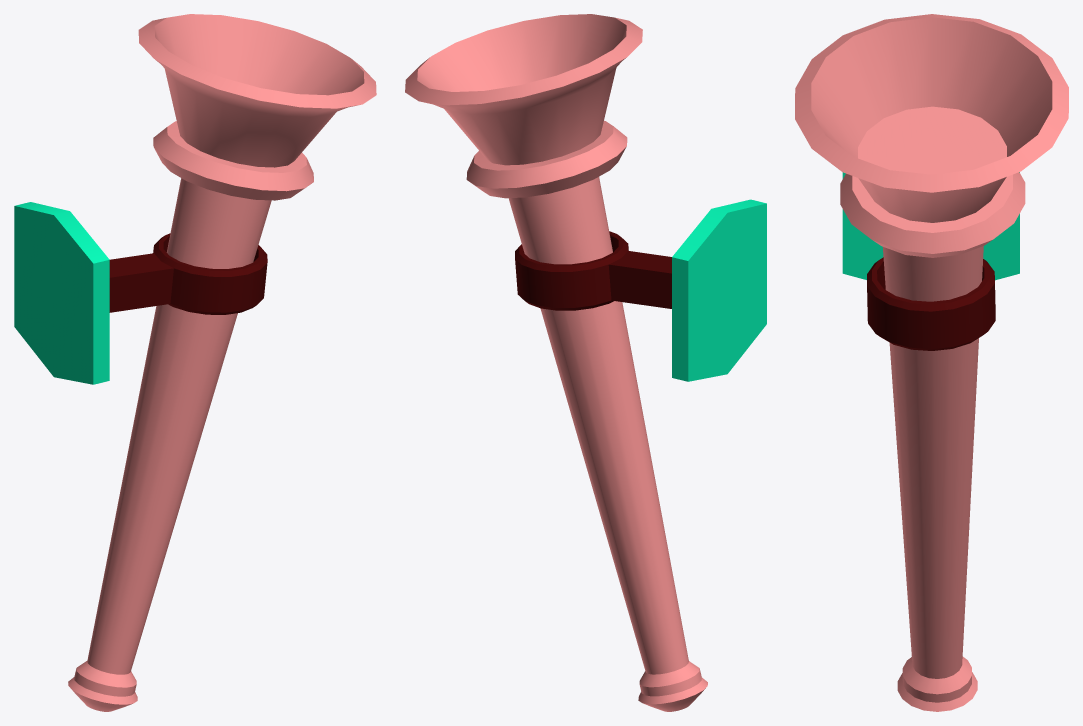
The model's file is 3D_ENV_HANGTORCH.FBX.
3 views of the same model, side by side, from view 1: azimuth 30°, elevation 25°; view 2: azimuth 150°, elevation 25°; view 3: azimuth 270°, elevation 25° (orthographic). The views are drawn at different scales.
Parts seen in each view (by area): view 1: Torch, Plate, Hang; view 2: Torch, Plate, Hang; view 3: Torch, Hang, Plate.
Part boxes in pixels (<box>): Torch: <box>68,14,376,711</box>; Plate: <box>14,202,109,384</box>; Hang: <box>109,233,267,314</box>; Torch: <box>405,14,707,711</box>; Plate: <box>672,199,766,381</box>; Hang: <box>515,231,671,310</box>; Torch: <box>795,14,1068,711</box>; Hang: <box>867,257,995,350</box>; Plate: <box>842,172,1019,280</box>.
Size of the model in its own units: 41.8 by 83.68 by 28.71.
